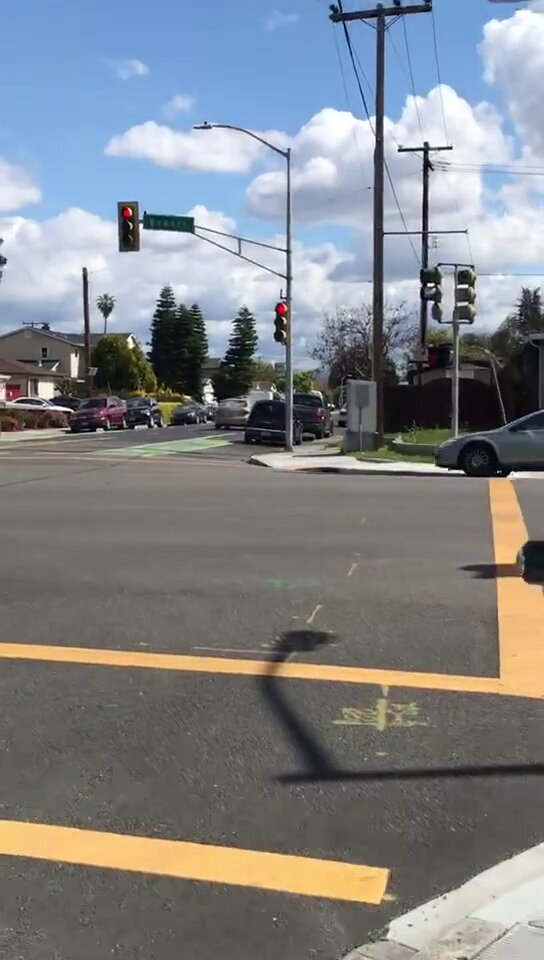red_light: (119, 202, 139, 253), (274, 301, 288, 340)
